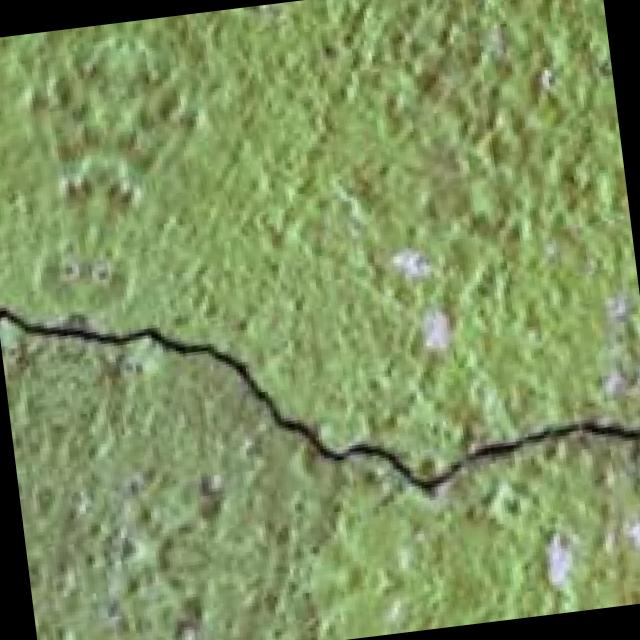crack: (0, 208, 640, 612)
